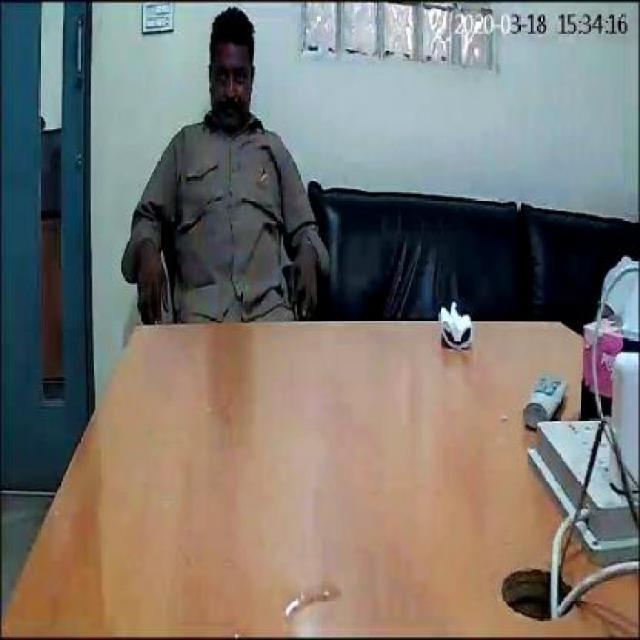spill: (242, 570, 346, 627)
